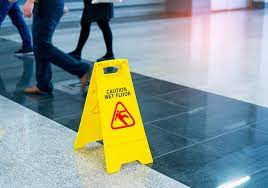wet caution sign: (74, 61, 162, 168)
